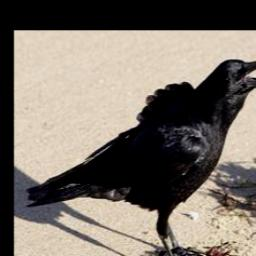Crow: (24, 57, 256, 256)
